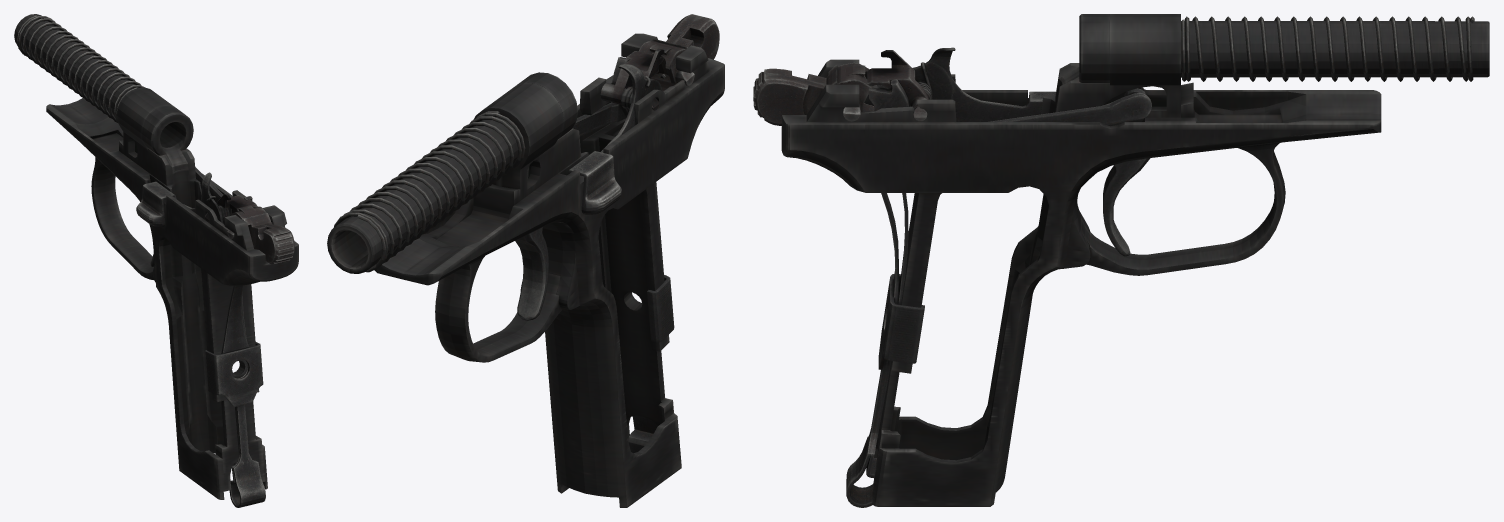
3 views of the same model, side by side, from view 1: azimuth 30°, elevation 25°; view 2: azimuth 150°, elevation 25°; view 3: azimuth 270°, elevation 25° (orthographic). The views are drawn at different scales.
Parts seen in each view (by area): view 1: TW_5448bd6b4bdc2dfc2f8b4569_PZ_Import; view 2: TW_5448bd6b4bdc2dfc2f8b4569_PZ_Import; view 3: TW_5448bd6b4bdc2dfc2f8b4569_PZ_Import.
Boxes of the visible parts, x1,y1,x2,y2 form: TW_5448bd6b4bdc2dfc2f8b4569_PZ_Import: (14, 14, 298, 507); TW_5448bd6b4bdc2dfc2f8b4569_PZ_Import: (327, 14, 724, 507); TW_5448bd6b4bdc2dfc2f8b4569_PZ_Import: (753, 14, 1489, 507).
Size of the model in its own units: 0.0137 by 0.097 by 0.0701.
Materials: 1 (1 with a texture image).
